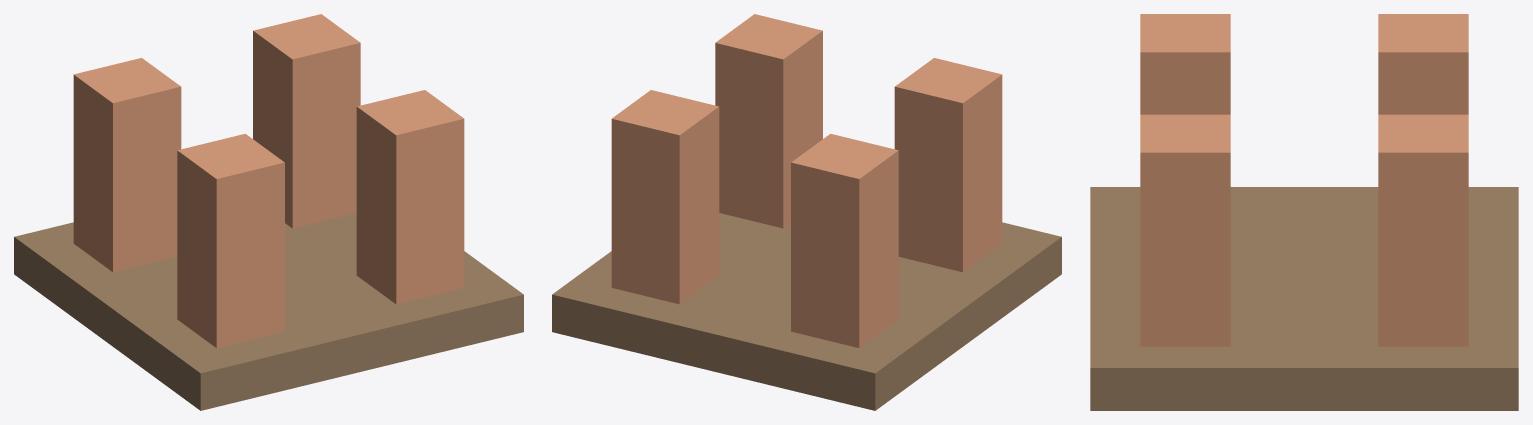
The model's file is Prop_DS_Crop_Bitroot_S3_V2.glb.
The picture shows the model from 3 angles, left to right: view 1: azimuth 30°, elevation 25°; view 2: azimuth 150°, elevation 25°; view 3: azimuth 270°, elevation 25°; orthographic projection. The views are drawn at different scales.
Visible parts, largest first — view 1: Cube, Cube.003, Cube.001, Cube.002, Cube.004; view 2: Cube, Cube.004, Cube.002, Cube.001, Cube.003; view 3: Cube, Cube.003, Cube.004, Cube.001, Cube.002.
Part boxes in pixels (x1,y1,x2,y2): Cube: (14, 213, 523, 410); Cube.003: (356, 90, 464, 304); Cube.001: (177, 133, 284, 348); Cube.002: (73, 58, 181, 272); Cube.004: (253, 14, 360, 228); Cube: (552, 213, 1061, 410); Cube.004: (611, 90, 719, 304); Cube.002: (791, 133, 898, 348); Cube.001: (894, 58, 1002, 272); Cube.003: (715, 14, 822, 228); Cube: (1090, 187, 1518, 410); Cube.003: (1140, 114, 1230, 346); Cube.004: (1378, 114, 1468, 346); Cube.001: (1140, 14, 1230, 114); Cube.002: (1378, 14, 1468, 114).
Bounding box in the file's own units: 0.9 × 0.55 × 0.9.
